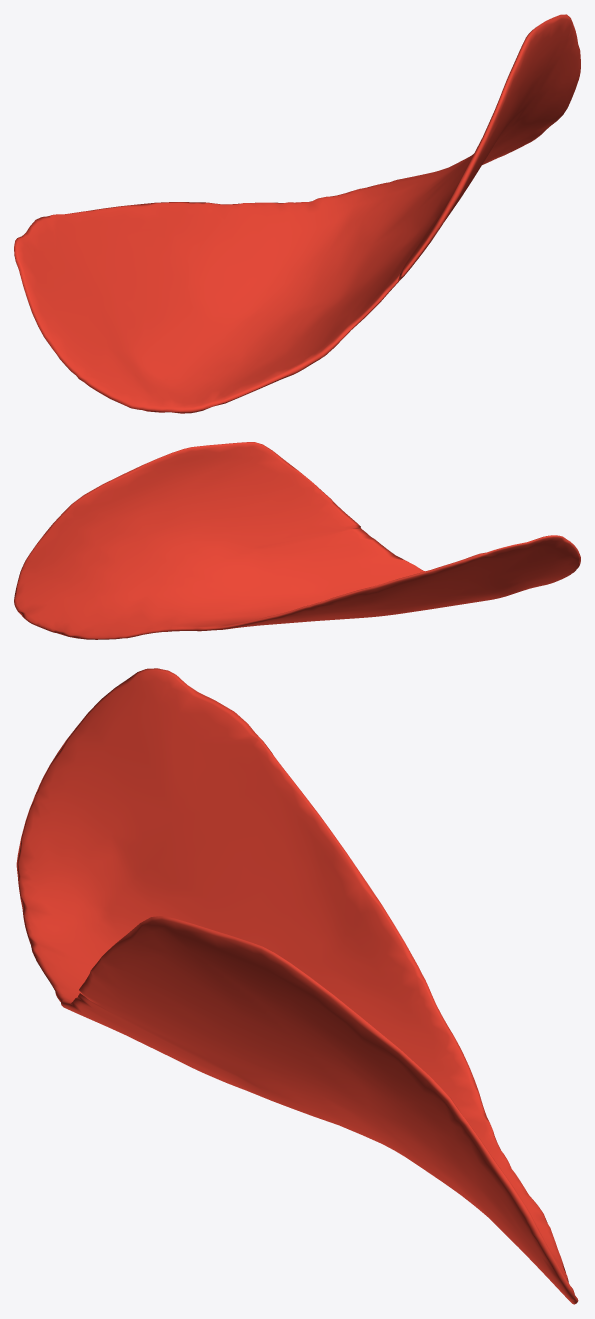
File: Supraspinatus_muscle-Scapular_insertion.r_Generated_Mesh_From_X.glb
The picture shows the model from 3 angles, top to bottom: view 1: azimuth 30°, elevation 25°; view 2: azimuth 150°, elevation 25°; view 3: azimuth 270°, elevation 25°; orthographic projection. The views are drawn at different scales.
Parts seen in each view (by area): view 1: Supraspinatus_muscle-Scapular_insertion.r_Generated_Mesh_Fro; view 2: Supraspinatus_muscle-Scapular_insertion.r_Generated_Mesh_Fro; view 3: Supraspinatus_muscle-Scapular_insertion.r_Generated_Mesh_Fro.
Boxes of the visible parts, x1=… form: Supraspinatus_muscle-Scapular_insertion.r_Generated_Mesh_Fro: x1=14, y1=14, x2=580, y2=413; Supraspinatus_muscle-Scapular_insertion.r_Generated_Mesh_Fro: x1=14, y1=442, x2=580, y2=639; Supraspinatus_muscle-Scapular_insertion.r_Generated_Mesh_Fro: x1=16, y1=668, x2=578, y2=1304.
Bounding box in the file's own units: 0.0642 × 0.02 × 0.0351.
